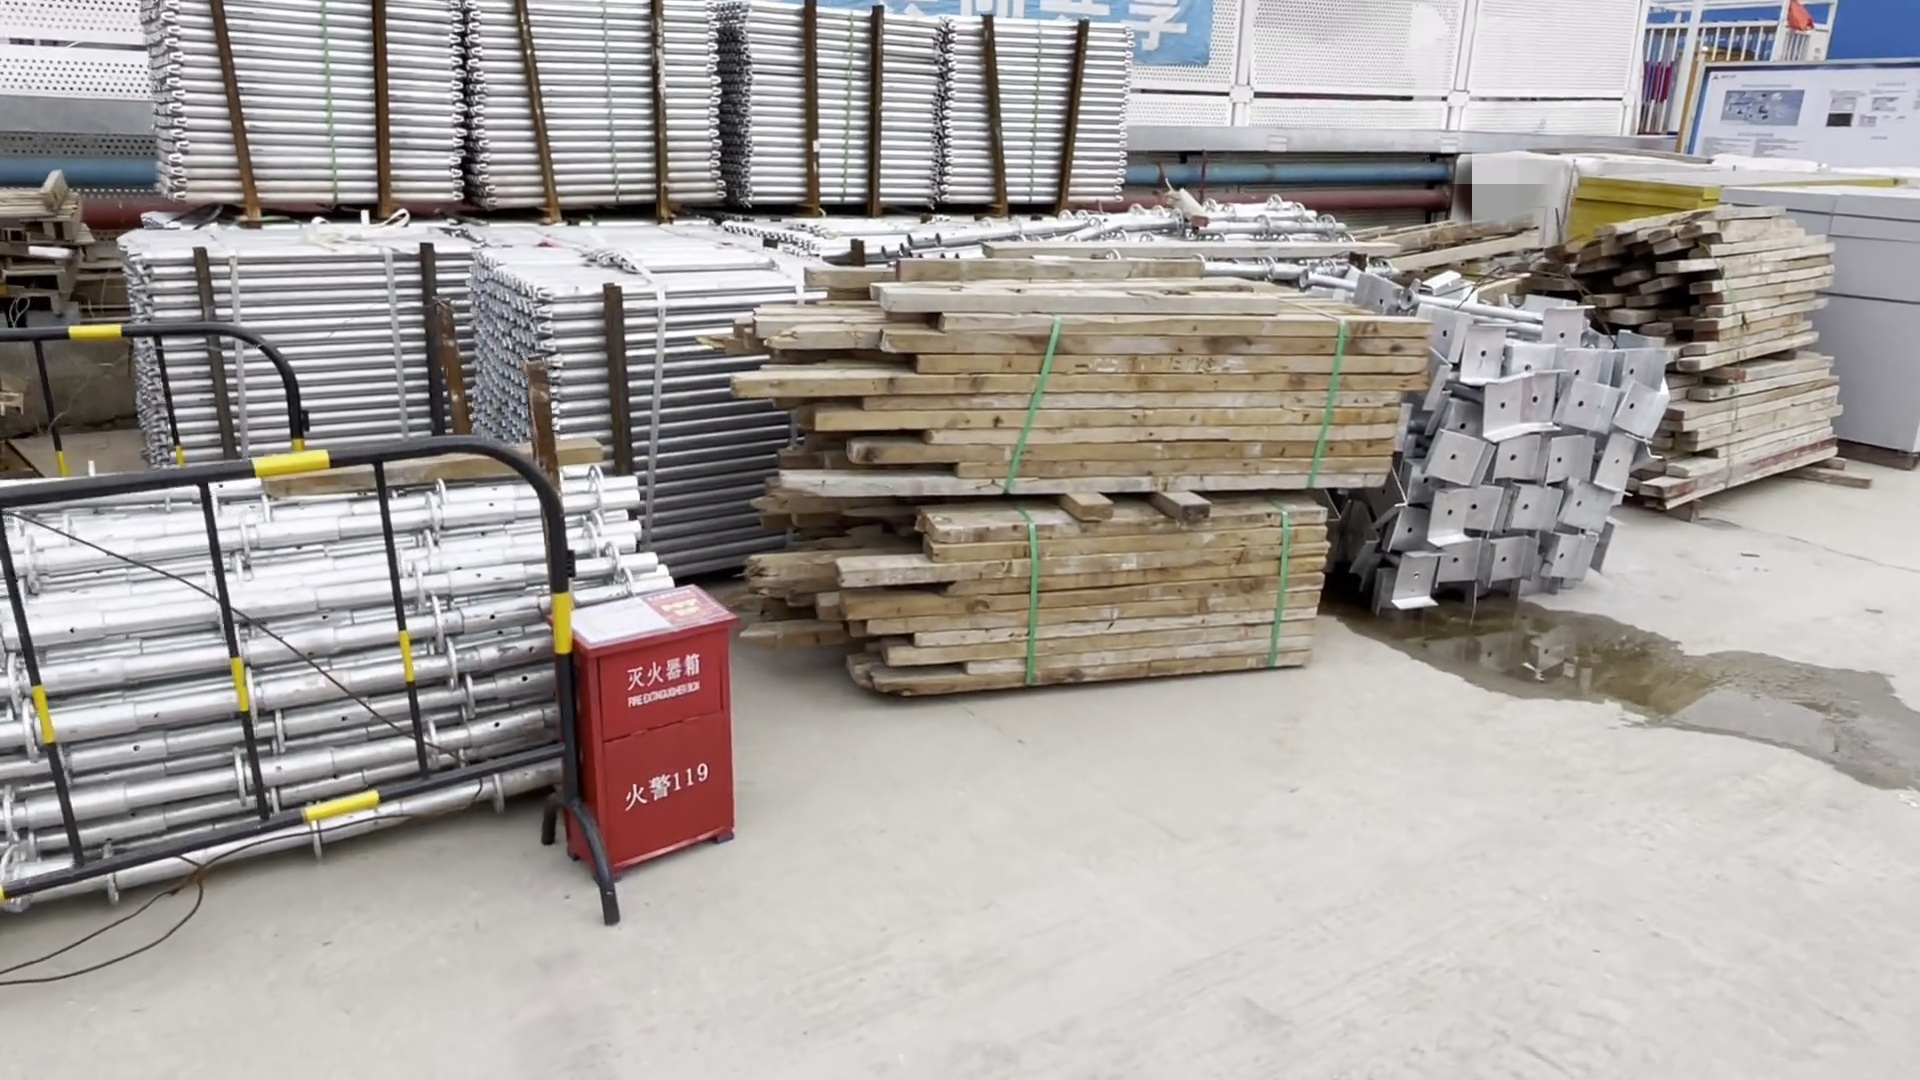scaffold: (128, 29, 1149, 533), (7, 438, 651, 899)
wood: (731, 266, 1402, 717), (1571, 216, 1863, 510)
